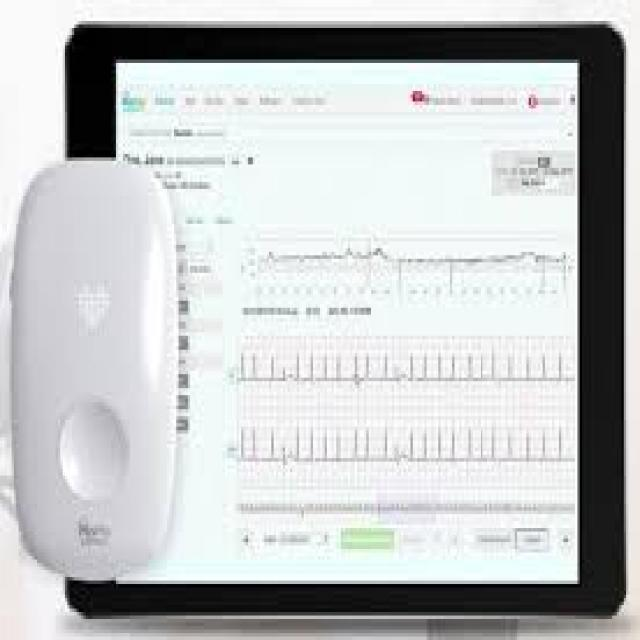cardiac_monitor: (61, 29, 612, 588)
